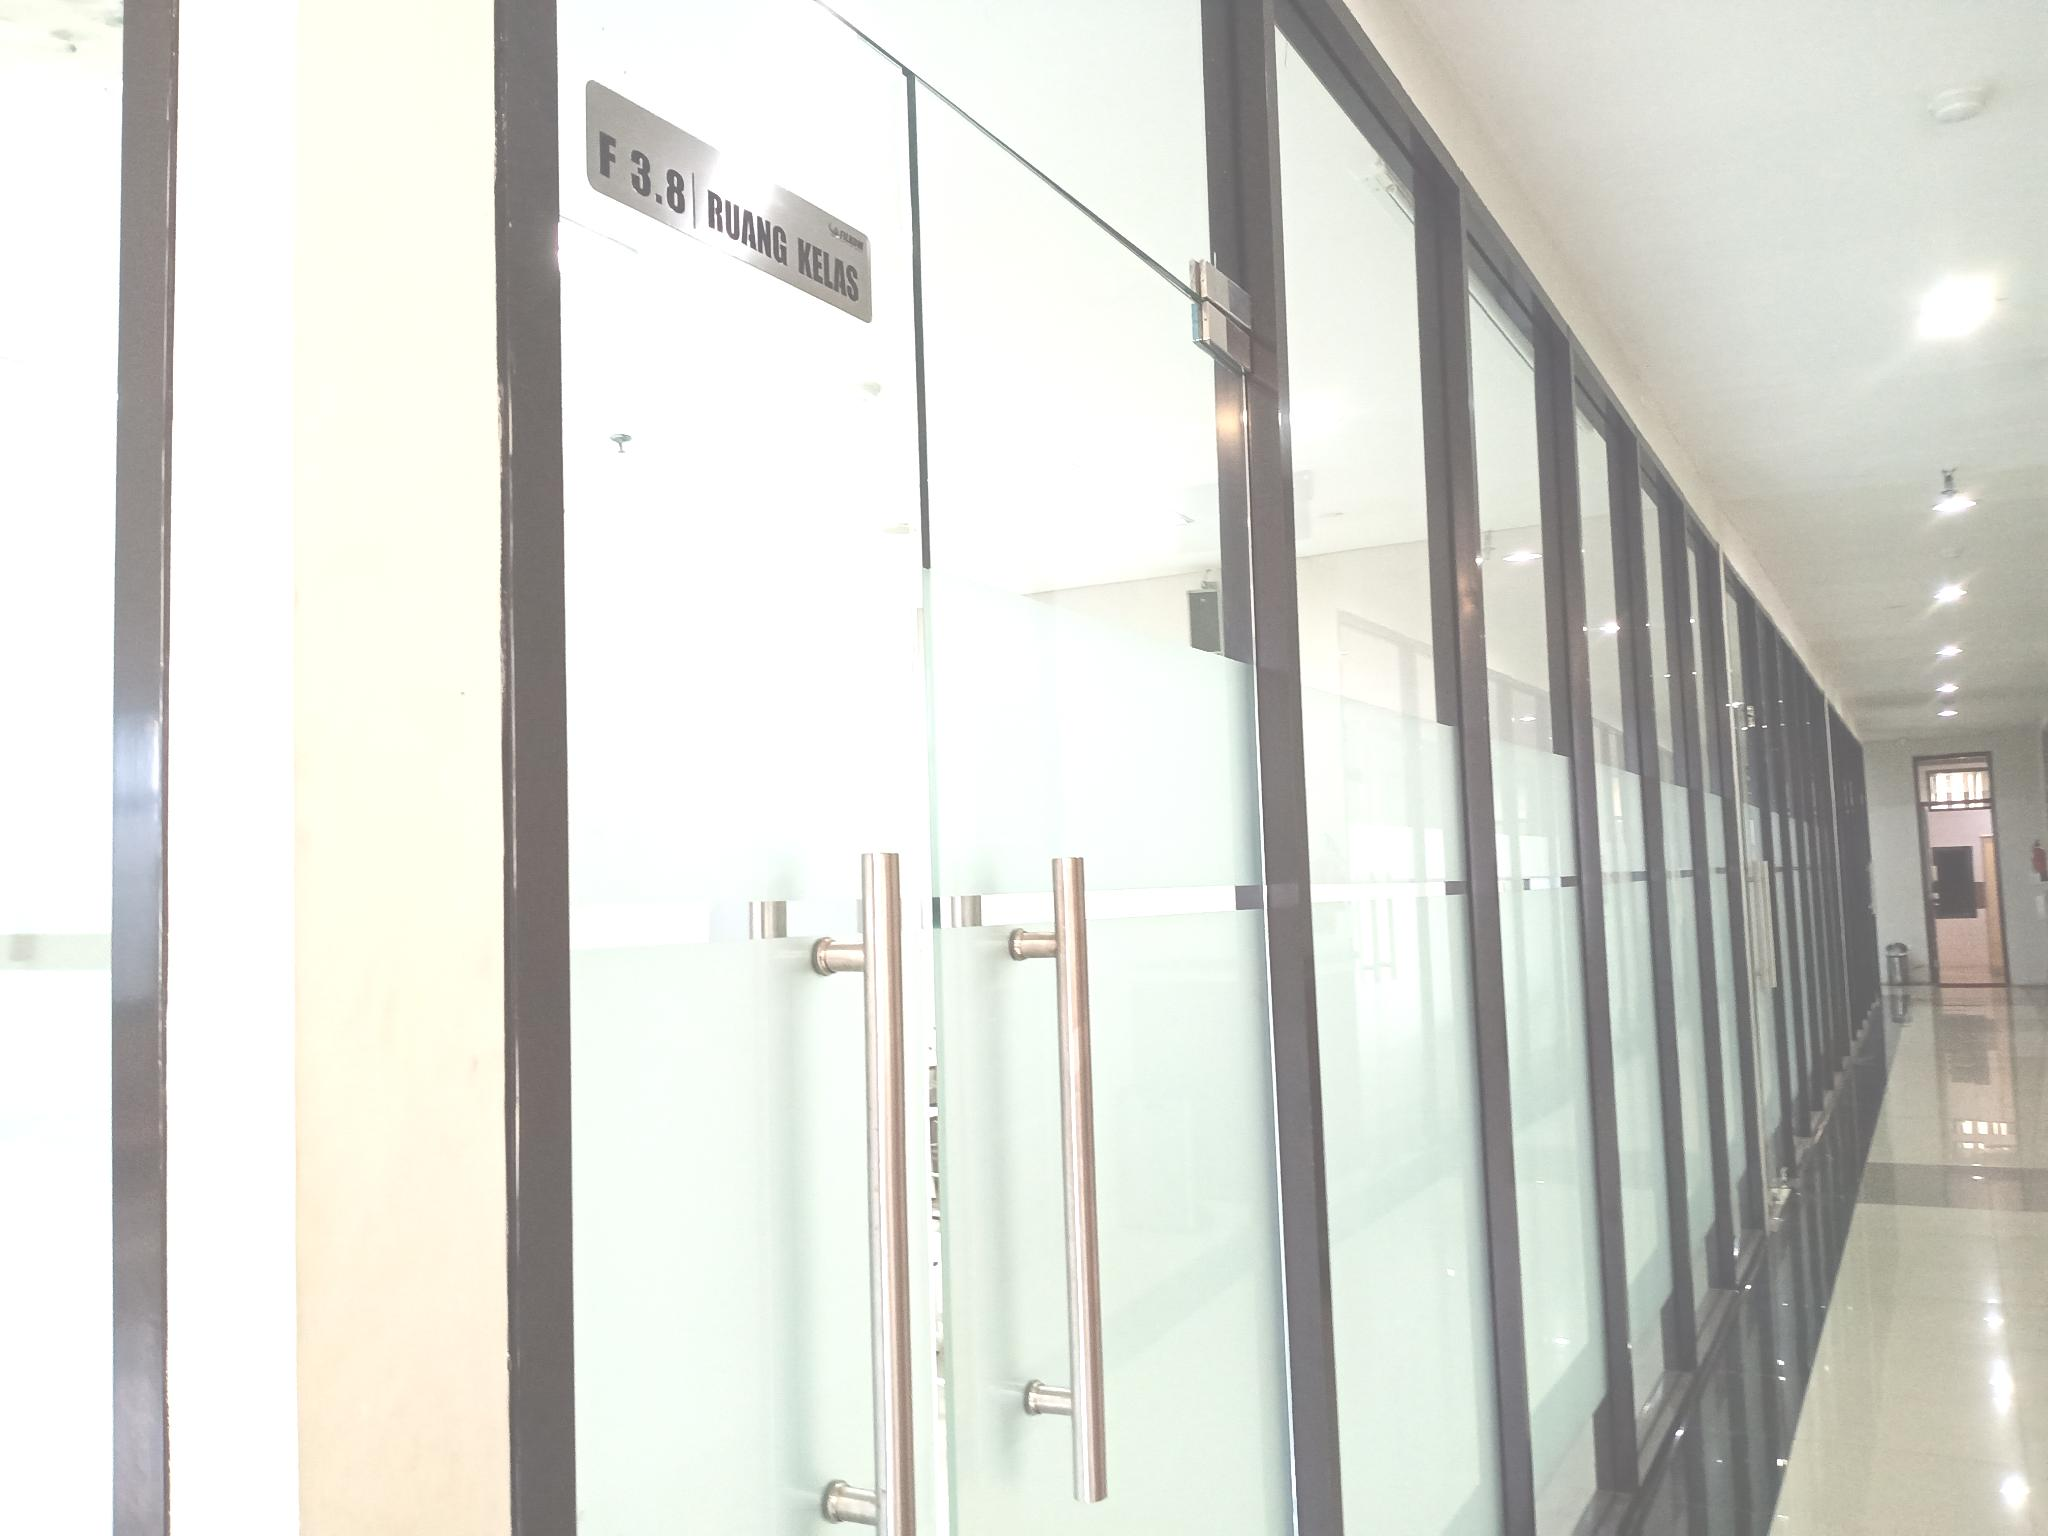plate: (585, 74, 872, 326)
